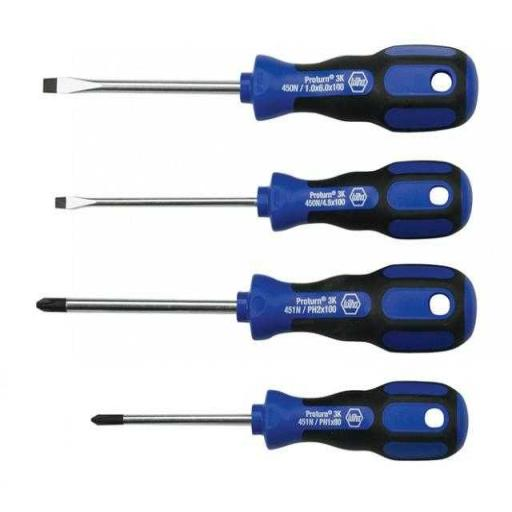screwdriver: (35, 262, 479, 355), (42, 44, 480, 132), (53, 160, 473, 240), (90, 380, 468, 463)
